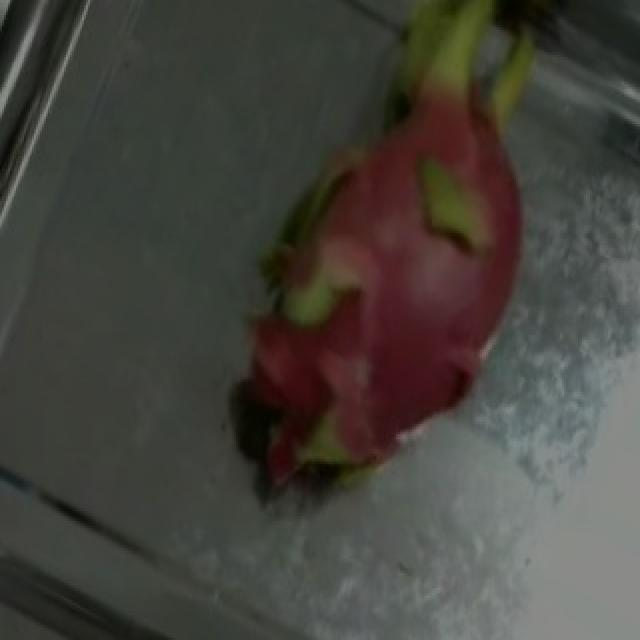fruit: (170, 2, 602, 456)
